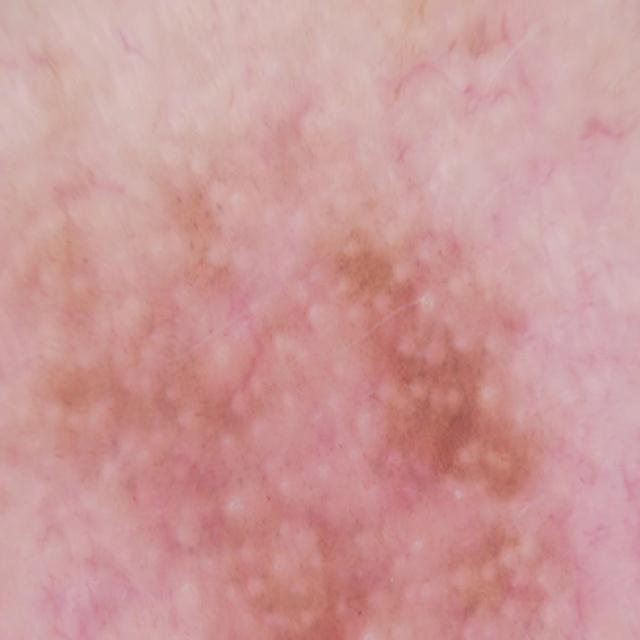Keratosis: (58, 207, 610, 640), (326, 142, 640, 549)
